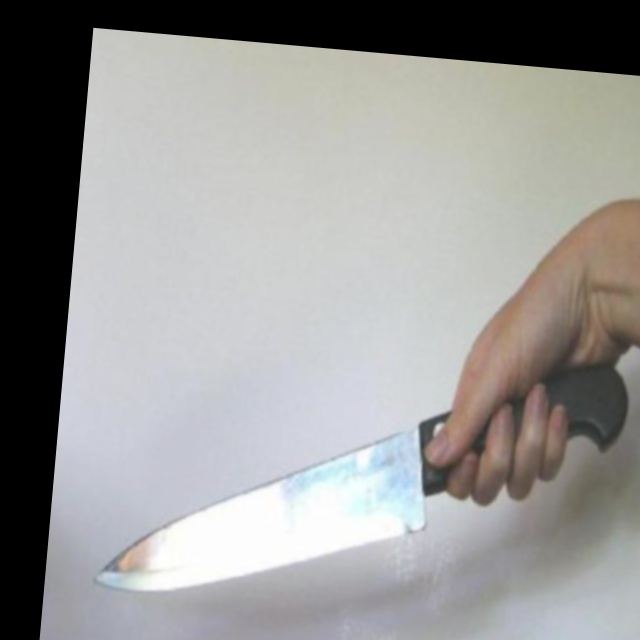Sharp-Object: (94, 323, 632, 635)
